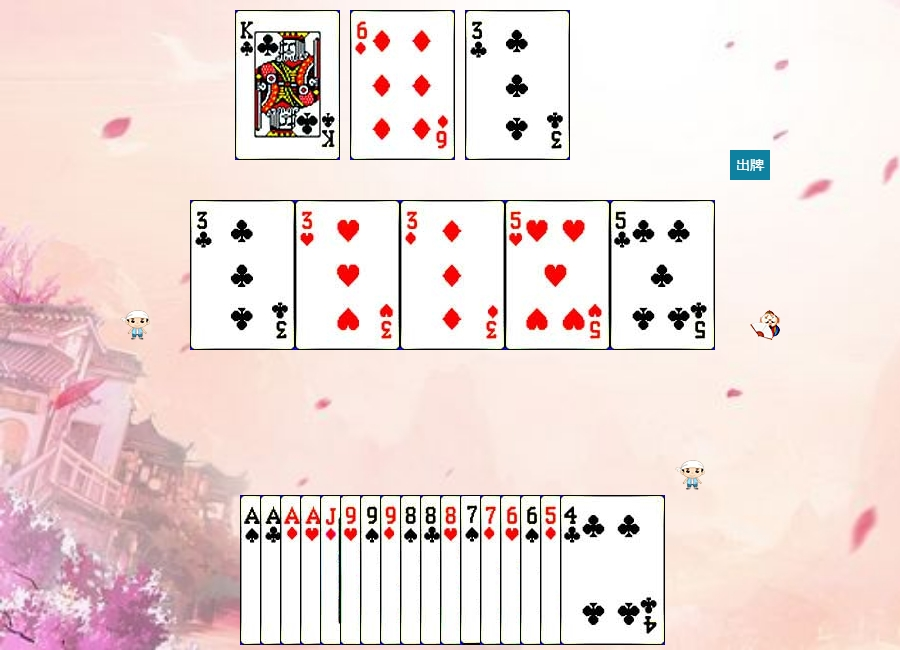11~1: (320, 495, 425, 645)
13~2: (235, 10, 340, 160)
14~1: (280, 495, 385, 645)
14~2: (260, 495, 365, 645)
14~3: (300, 495, 405, 645)
14~4: (240, 495, 345, 645)
3~1: (400, 200, 505, 350)
3~2: (465, 10, 570, 160), (190, 200, 295, 350)
3~3: (295, 200, 400, 350)
4~2: (560, 495, 665, 645)
5~1: (540, 495, 645, 645)
5~2: (610, 200, 715, 350)
5~3: (505, 200, 610, 350)
6~1: (350, 10, 455, 160)
6~3: (500, 495, 605, 645)
6~4: (520, 495, 625, 645)
7~1: (480, 495, 585, 645)
7~4: (460, 495, 565, 645)
8~2: (420, 495, 525, 645)
8~3: (440, 495, 545, 645)
8~4: (400, 495, 505, 645)
9~1: (380, 495, 485, 645)
9~3: (340, 495, 445, 645)
9~4: (360, 495, 465, 645)
